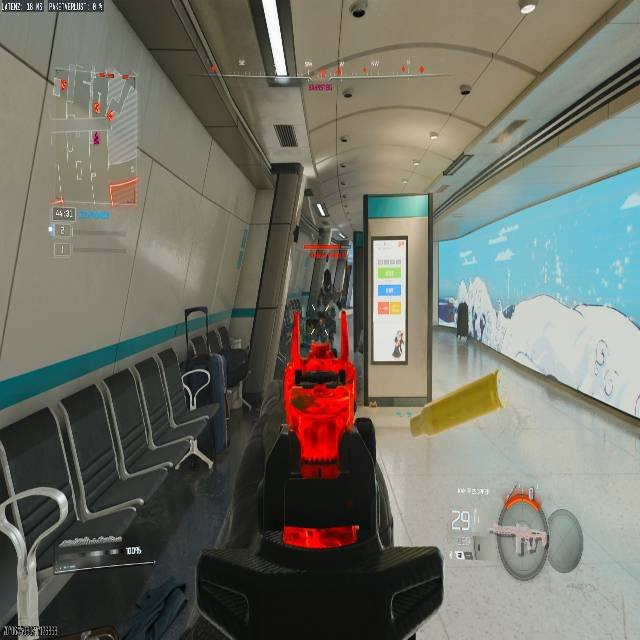player: (448, 505, 476, 560)
